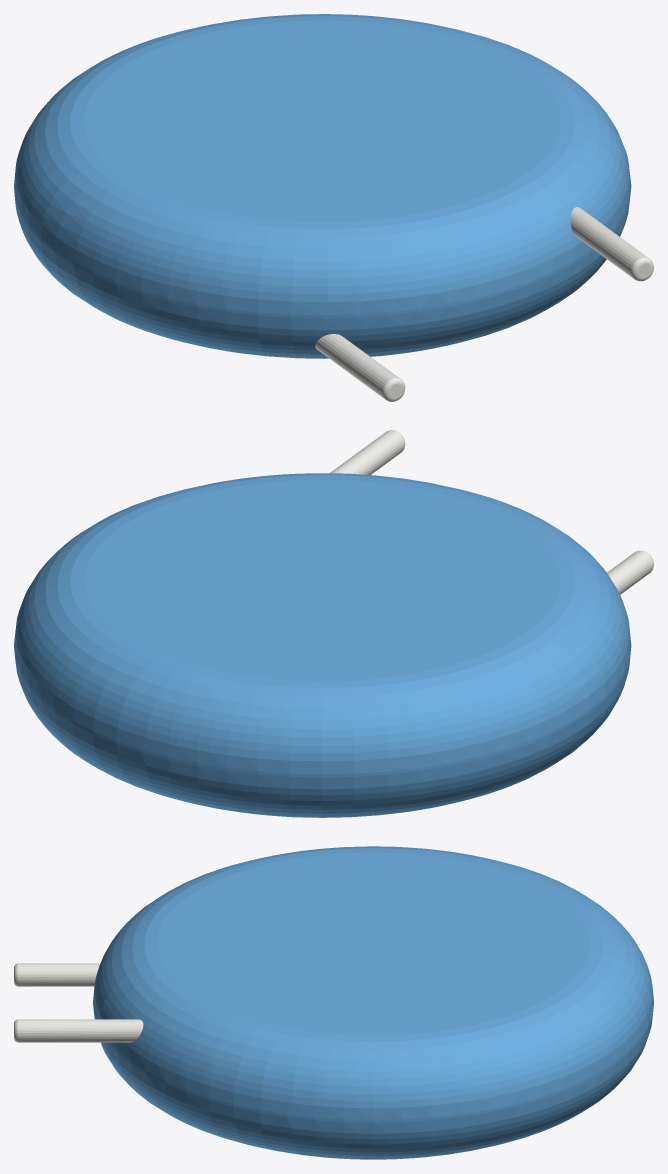
The model's file is RV_Disc_D21.5mm_W5mm_P10mm.glb.
3 views of the same model, one above another, from view 1: azimuth 30°, elevation 25°; view 2: azimuth 150°, elevation 25°; view 3: azimuth 270°, elevation 25° (orthographic). The views are drawn at different scales.
Visible parts, largest first — view 1: Shape_IndexedFaceSet.003, Shape_IndexedFaceSet.001, Shape_IndexedFaceSet.002, Shape_IndexedFaceSet, Shape_IndexedFaceSet.006, Shape_IndexedFaceSet.004; view 2: Shape_IndexedFaceSet.003, Shape_IndexedFaceSet.001, Shape_IndexedFaceSet.002, Shape_IndexedFaceSet, Shape_IndexedFaceSet.004, Shape_IndexedFaceSet.006; view 3: Shape_IndexedFaceSet.003, Shape_IndexedFaceSet.001, Shape_IndexedFaceSet.002, Shape_IndexedFaceSet.004, Shape_IndexedFaceSet, Shape_IndexedFaceSet.006.
Boxes of the visible parts, box(x1,y1,x2,y2) form: Shape_IndexedFaceSet.003: box(84, 20, 561, 222); Shape_IndexedFaceSet.001: box(14, 14, 631, 315); Shape_IndexedFaceSet.002: box(14, 189, 630, 358); Shape_IndexedFaceSet: box(14, 185, 631, 318); Shape_IndexedFaceSet.006: box(315, 334, 399, 398); Shape_IndexedFaceSet.004: box(570, 207, 647, 277); Shape_IndexedFaceSet.003: box(84, 479, 560, 681); Shape_IndexedFaceSet.001: box(14, 473, 631, 774); Shape_IndexedFaceSet.002: box(14, 650, 630, 817); Shape_IndexedFaceSet: box(14, 645, 631, 777); Shape_IndexedFaceSet.004: box(330, 430, 404, 474); Shape_IndexedFaceSet.006: box(607, 551, 653, 594); Shape_IndexedFaceSet.003: box(156, 852, 590, 1035); Shape_IndexedFaceSet.001: box(93, 846, 653, 1119); Shape_IndexedFaceSet.002: box(93, 1008, 653, 1159); Shape_IndexedFaceSet.004: box(18, 1019, 143, 1042); Shape_IndexedFaceSet: box(93, 1002, 653, 1122); Shape_IndexedFaceSet.006: box(18, 963, 100, 986).
Bounding box in the file's own units: 8.47 × 1.97 × 9.66.
